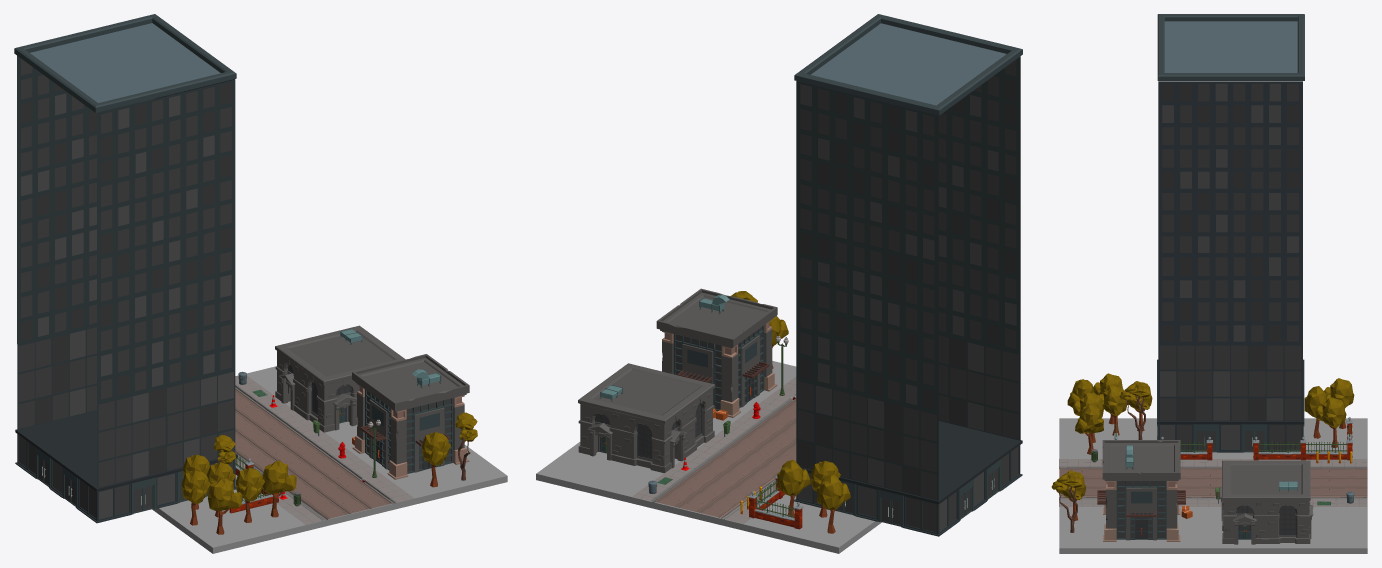
The model's file is City Area 9.fbx.
3 views of the same model, side by side, from view 1: azimuth 30°, elevation 25°; view 2: azimuth 150°, elevation 25°; view 3: azimuth 270°, elevation 25° (orthographic). The views are drawn at different scales.
Visible parts, largest first — view 1: SM_Bld_OfficeSquare_03, SM_Bld_OfficeSquare_Base_01_Glass.002, SM_Bld_OfficeSquare_Roof_01.001, SM_Prop_SidewalkPoles_01.009, SM_Bld_Station_01, Plane.009, SM_Bld_OfficeOld_Small_Base_01, SM_Env_Tree_03.031, SM_Env_Tree_03.032, SM_Env_Tree_03.010, SM_Env_Tree_03.023, SM_Env_Tree_03.030 (+1 smaller); view 2: SM_Bld_OfficeSquare_03, SM_Bld_OfficeSquare_Base_01_Glass.002, SM_Bld_OfficeSquare_Roof_01.001, SM_Prop_SidewalkPoles_01.009, SM_Bld_OfficeOld_Small_Base_01, SM_Bld_Station_01, Plane.009, SM_Env_Tree_03.016, SM_Env_Tree_03.012, SM_Env_Fence_01.025; view 3: SM_Bld_OfficeSquare_03, SM_Bld_OfficeSquare_Base_01_Glass.002, Plane.009, SM_Bld_OfficeSquare_Roof_01.001, SM_Bld_Station_01, SM_Bld_OfficeOld_Small_Base_01, SM_Prop_SidewalkPoles_01.009, SM_Env_Tree_03.012, SM_Env_Tree_03.032, SM_Env_Tree_02.042, SM_Env_Tree_02.041, SM_Env_Tree_03.022 (+7 smaller).
Boxes of the visible parts, <box> form: SM_Bld_OfficeSquare_03: <box>17,55,235,402</box>; SM_Bld_OfficeSquare_Base_01_Glass.002: <box>15,325,237,523</box>; SM_Bld_OfficeSquare_Roof_01.001: <box>14,14,236,112</box>; SM_Prop_SidewalkPoles_01.009: <box>235,371,414,524</box>; SM_Bld_Station_01: <box>352,354,469,479</box>; Plane.009: <box>152,366,507,553</box>; SM_Bld_OfficeOld_Small_Base_01: <box>275,325,405,432</box>; SM_Env_Tree_03.031: <box>208,478,242,534</box>; SM_Env_Tree_03.032: <box>262,460,296,517</box>; SM_Env_Tree_03.010: <box>181,470,210,525</box>; SM_Env_Tree_03.023: <box>422,432,450,487</box>; SM_Env_Tree_03.030: <box>236,468,264,522</box>; SM_Bld_OfficeSquare_03: <box>796,56,1020,411</box>; SM_Bld_OfficeSquare_Base_01_Glass.002: <box>794,332,1022,536</box>; SM_Bld_OfficeSquare_Roof_01.001: <box>794,14,1022,115</box>; SM_Prop_SidewalkPoles_01.009: <box>632,335,796,523</box>; SM_Bld_OfficeOld_Small_Base_01: <box>578,363,715,472</box>; SM_Bld_Station_01: <box>656,288,777,417</box>; Plane.009: <box>536,361,881,553</box>; SM_Env_Tree_03.016: <box>817,474,850,533</box>; SM_Env_Tree_03.012: <box>777,460,810,517</box>; SM_Env_Fence_01.025: <box>754,498,794,527</box>; SM_Bld_OfficeSquare_03: <box>1158,81,1302,342</box>; SM_Bld_OfficeSquare_Base_01_Glass.002: <box>1157,343,1304,452</box>; Plane.009: <box>1059,418,1367,553</box>; SM_Bld_OfficeSquare_Roof_01.001: <box>1157,14,1304,80</box>; SM_Bld_Station_01: <box>1097,440,1185,541</box>; SM_Bld_OfficeOld_Small_Base_01: <box>1219,460,1313,544</box>; SM_Prop_SidewalkPoles_01.009: <box>1059,449,1367,506</box>; SM_Env_Tree_03.012: <box>1315,397,1346,447</box>; SM_Env_Tree_03.032: <box>1075,405,1103,454</box>; SM_Env_Tree_02.042: <box>1051,472,1082,532</box>; SM_Env_Tree_02.041: <box>1119,382,1150,439</box>; SM_Env_Tree_03.022: <box>1099,385,1127,435</box>.
Size of the model in its own units: 12137 by 13701 by 10258.
